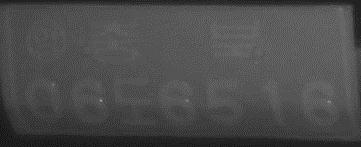0: (25, 77, 62, 121)
1: (256, 77, 292, 131)
5: (205, 77, 244, 127)
6: (69, 76, 107, 130), (299, 79, 338, 130), (158, 78, 197, 128)
도: (113, 75, 156, 128)
영: (23, 15, 68, 65)
충북_D: (84, 16, 268, 67)
